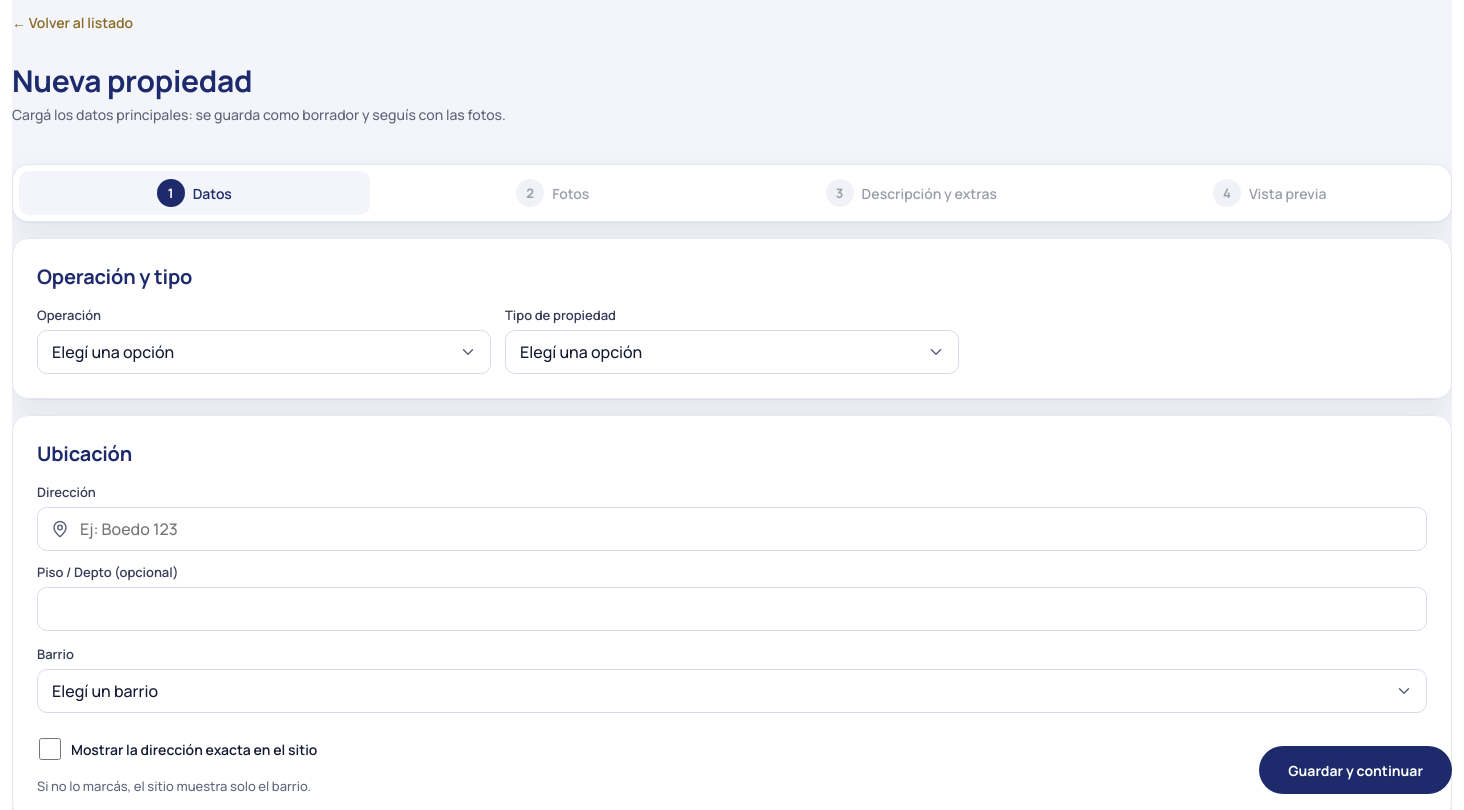
Test case: NewPropertyPage › renders step 1 of the guided flow with the neighborhoods, USD by default and the later steps disabled
Expected: the heading "Nueva propiedad" is shown, [12,60,252,101]
Click the dropdown labelled "barrio" at (105, 691), box [37,669,1427,713]
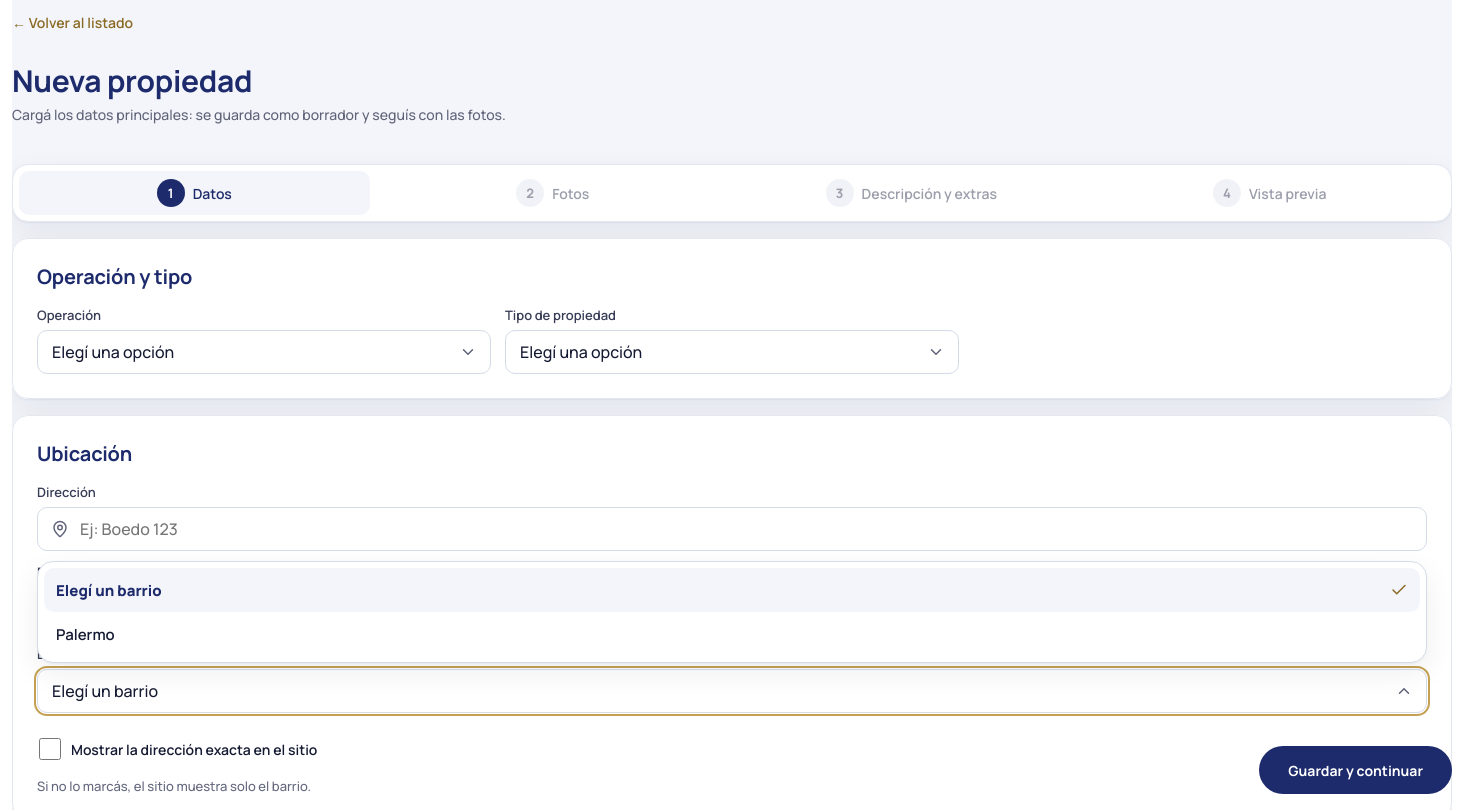
Expected: the button "Guardar y continuar" is shown, [1259,746,1452,794]
Result: the option "Palermo" is shown at [56,624,115,644]
